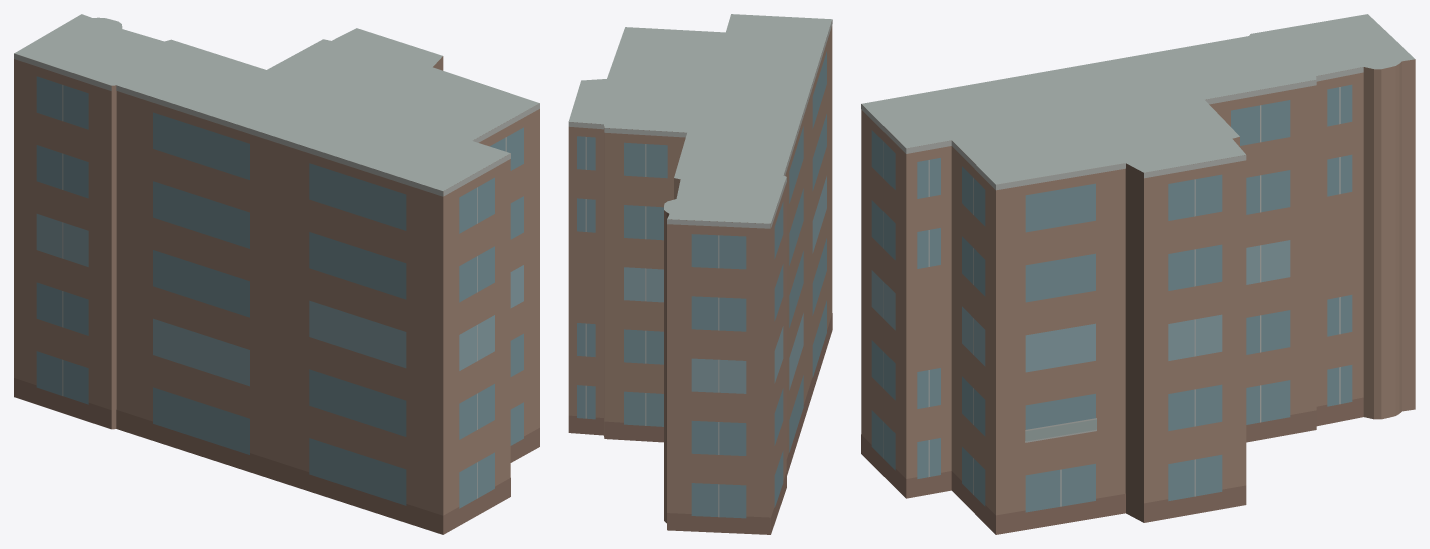
Rendered from survey-upis-32491695.glb.
3 renders of one model, left to right at view 1: azimuth 30°, elevation 25°; view 2: azimuth 150°, elevation 25°; view 3: azimuth 270°, elevation 25°, orthographic. The views are drawn at different scales.
Visible parts, largest first — view 1: survey-upis-32491695.tmp; view 2: survey-upis-32491695.tmp; view 3: survey-upis-32491695.tmp.
Boxes of the visible parts, <box> form: survey-upis-32491695.tmp: <box>14,14,539,534</box>; survey-upis-32491695.tmp: <box>568,14,832,534</box>; survey-upis-32491695.tmp: <box>861,14,1415,534</box>.
Size of the model in its own units: 15.95 by 15.25 by 21.89.
